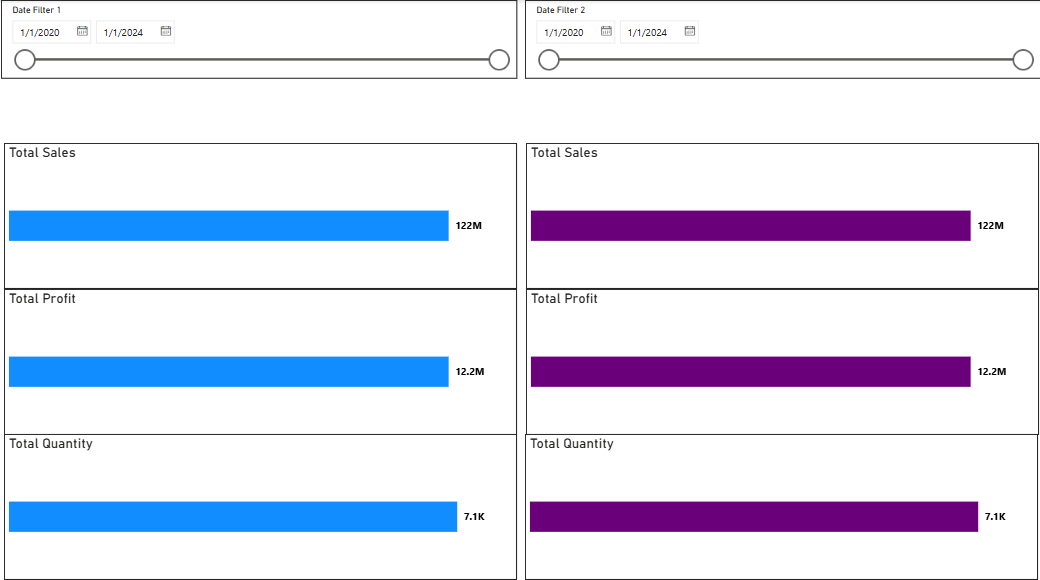

This screenshot's page, from the dashboard's own definition file:
{"tool":"powerbi","page":{"name":"Edit Interaction","canvas":[1280,720],"ordinal":3},"visuals":[{"type":"barChart","title":"Total Sales","fields":{"Y":["Sum(Fact Table.Net Sale)"]},"box":[13.8,174.8,626.2,177.5],"z":0},{"type":"barChart","title":"Total Profit","fields":{"Y":["Sum(Fact Table.Profit)"]},"box":[13.8,352.3,626.2,177.5],"z":1000},{"type":"barChart","title":"Total Quantity","fields":{"Y":["Sum(Fact Table.Units Sold)"]},"box":[13.8,529.9,626.2,177.5],"z":2000},{"type":"barChart","title":"Total Sales","fields":{"Y":["Sum(Fact Table.Net Sale)"]},"box":[651,174.8,626.2,177.5],"z":3000},{"type":"barChart","title":"Total Profit","fields":{"Y":["Sum(Fact Table.Profit)"]},"box":[651,352.3,626.2,177.5],"z":4000},{"type":"barChart","title":"Total Quantity","fields":{"Y":["Sum(Fact Table.Units Sold)"]},"box":[649.6,529.9,626.2,177.5],"z":5000},{"type":"slicer","title":"Date Filter 1","fields":{"Values":["Fact Table.Date (dd/mm/yyyy)"]},"box":[649.6,0,630.4,96.3],"z":6000},{"type":"slicer","title":"Date Filter 1","fields":{"Values":["Fact Table.Date (dd/mm/yyyy)"]},"box":[9.6,0,630.4,96.3],"z":7000}]}

Visuals, with their boxes in screenshot pixels (x1, y1, x2, y2), scaled from the page's 1280x720 canvas onto the 1040x580 screenshot:
"Total Sales" barChart: [11, 141, 520, 284]
"Total Profit" barChart: [11, 284, 520, 427]
"Total Quantity" barChart: [11, 427, 520, 570]
"Total Sales" barChart: [529, 141, 1038, 284]
"Total Profit" barChart: [529, 284, 1038, 427]
"Total Quantity" barChart: [528, 427, 1037, 570]
"Date Filter 1" slicer: [528, 0, 1039, 78]
"Date Filter 1" slicer: [8, 0, 520, 78]
